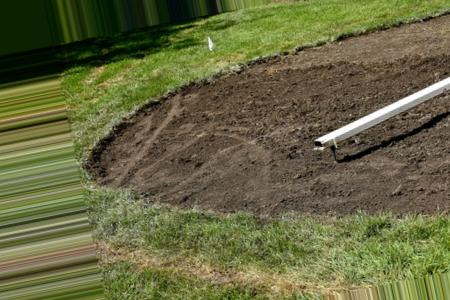patch: (154, 112, 295, 190), (342, 162, 450, 201), (271, 70, 360, 107), (379, 44, 450, 77), (189, 87, 251, 115), (113, 139, 147, 185)
